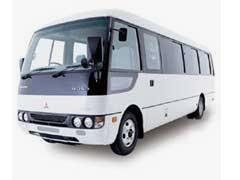bus: (18, 10, 213, 157)
